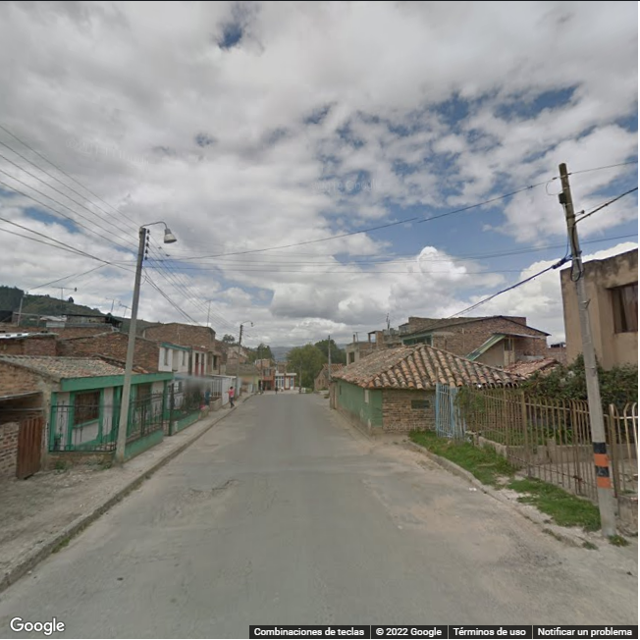D00: (406, 542, 488, 620), (149, 574, 163, 636), (177, 565, 198, 603), (242, 547, 256, 602)
D40: (503, 536, 568, 571)
